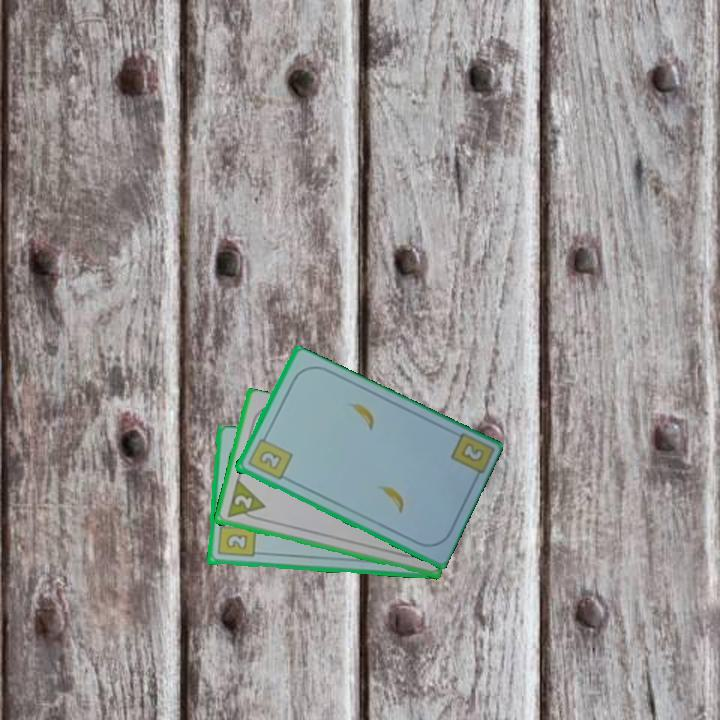2b: (244, 430, 295, 483), (214, 516, 258, 560), (460, 441, 484, 463)
2p: (223, 478, 268, 524)
